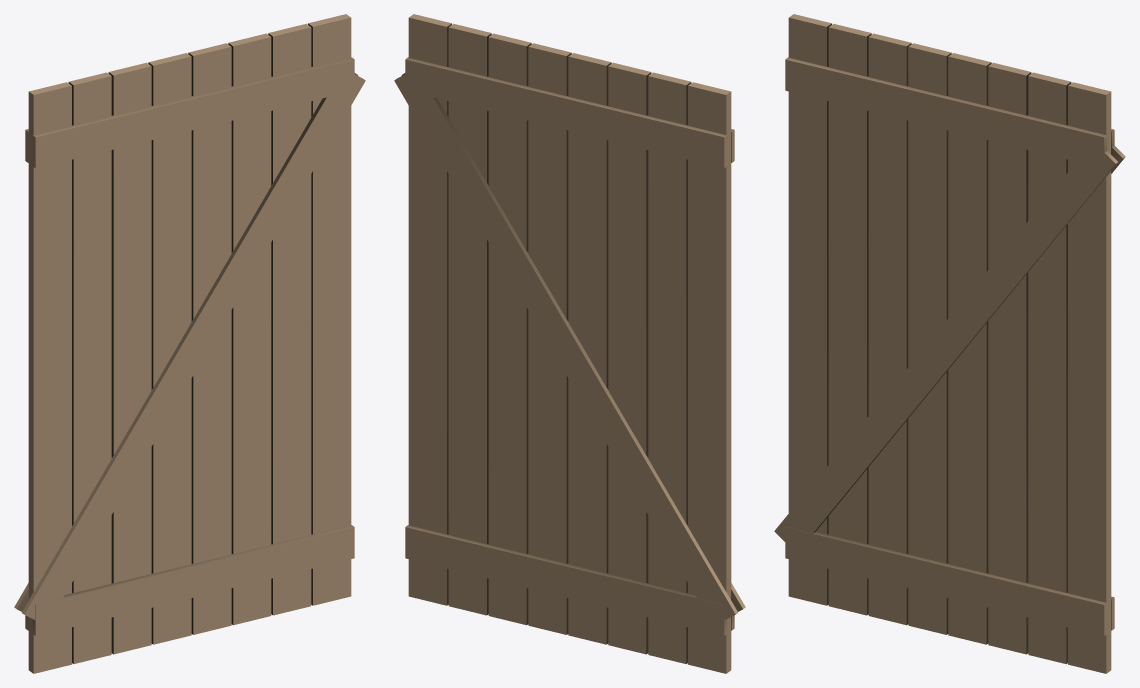
Rendered from door_barn.glb.
3 renders of one model, left to right at view 1: azimuth 30°, elevation 25°; view 2: azimuth 150°, elevation 25°; view 3: azimuth 330°, elevation 25°, orthographic.
Parts seen in each view (by area): view 1: door_barn; view 2: door_barn; view 3: door_barn.
Part boxes in pixels (x1,y1,x2,y2): door_barn: (14, 14, 365, 673); door_barn: (394, 14, 745, 673); door_barn: (774, 14, 1125, 673).
Size of the model in its own units: 1.61 by 2.6 by 0.085.
